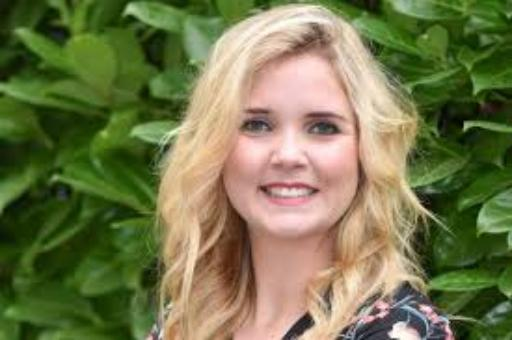left_eye: (306, 123, 348, 138)
left_lip_corner: (314, 188, 333, 201)
right_eye: (239, 120, 276, 137)
right_lip_corner: (255, 183, 270, 197)
